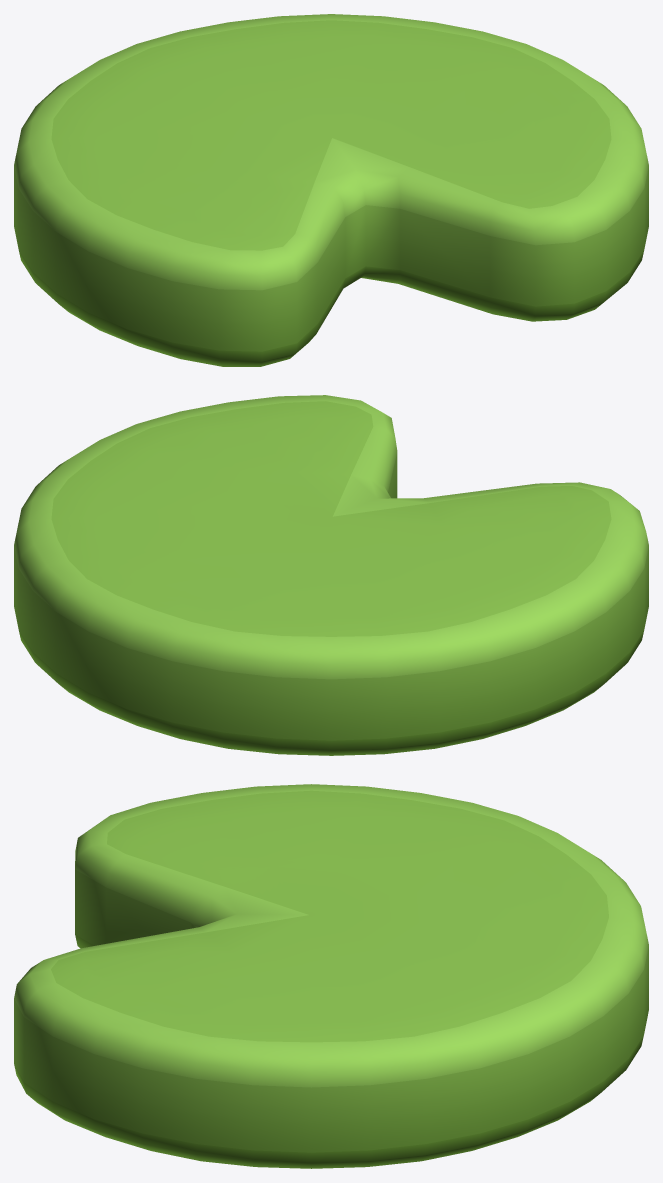
The model's file is water_lily_1.fbx.
3 views of the same model, one above another, from view 1: azimuth 30°, elevation 25°; view 2: azimuth 150°, elevation 25°; view 3: azimuth 270°, elevation 25° (orthographic). The views are drawn at different scales.
Visible parts, largest first — view 1: water_lily_1; view 2: water_lily_1; view 3: water_lily_1.
Boxes of the visible parts, x1,y1,x2,y2 form: water_lily_1: [14, 14, 648, 366]; water_lily_1: [14, 395, 648, 755]; water_lily_1: [14, 784, 648, 1168].
Bounding box in the file's own units: 92.64 × 18.68 × 87.13.
Materials: 1 (1 with a texture image).
